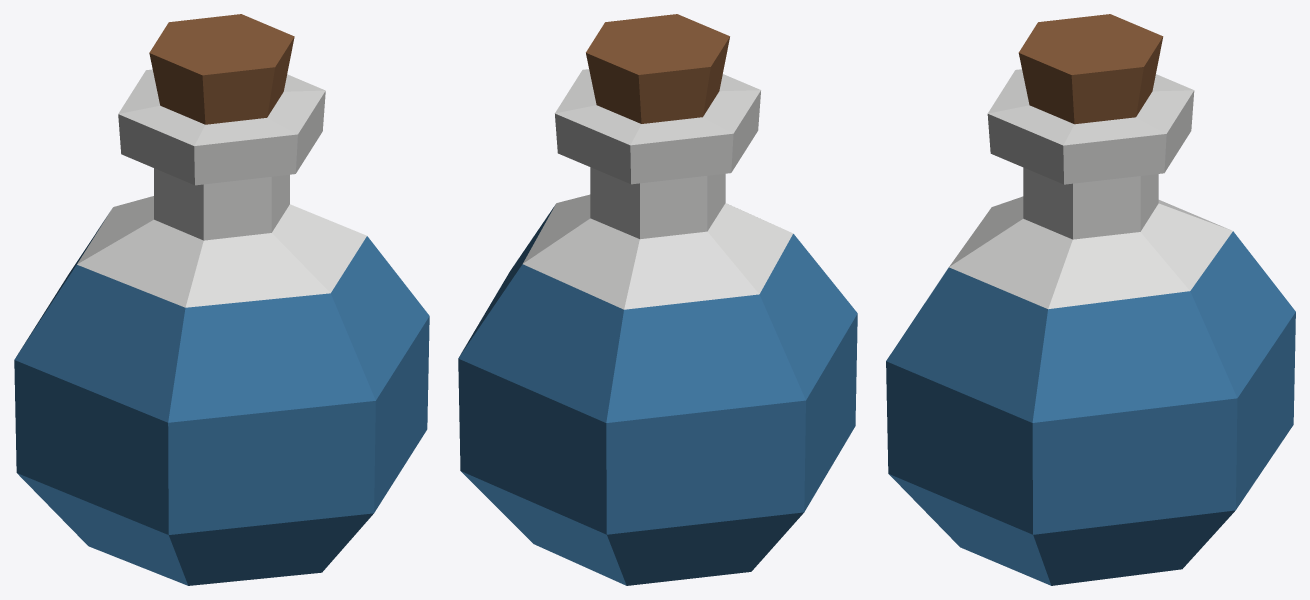
File: potion-globe_blue.glb
3 renders of one model, left to right at view 1: azimuth 30°, elevation 25°; view 2: azimuth 150°, elevation 25°; view 3: azimuth 270°, elevation 25°, orthographic.
Parts seen in each view (by area): view 1: potion-globe_blue; view 2: potion-globe_blue; view 3: potion-globe_blue.
Part boxes in pixels (<box>): potion-globe_blue: <box>14,14,429,585</box>; potion-globe_blue: <box>458,14,857,585</box>; potion-globe_blue: <box>886,14,1295,585</box>.
Bounding box in the file's own units: 0.2471 × 0.3418 × 0.2471.
Materials: 1 (1 with a texture image).
